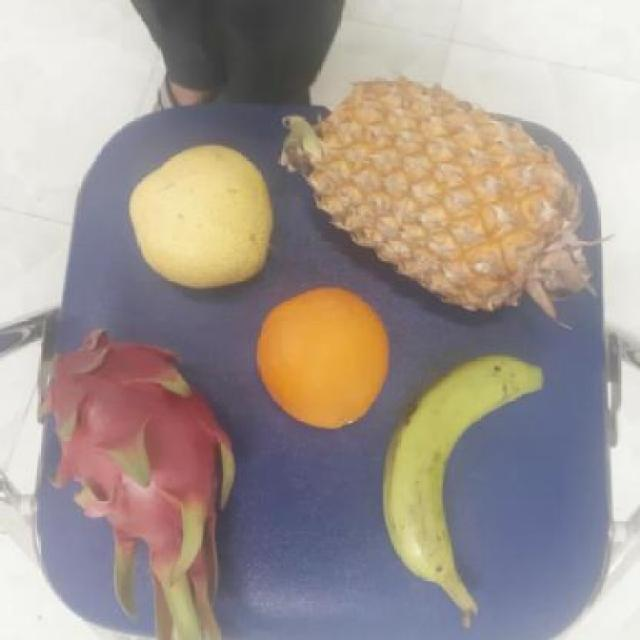banana: (383, 353, 545, 604)
dragon fruit: (40, 326, 245, 619)
oren: (253, 288, 396, 430)
pear: (127, 140, 281, 289)
pineapple: (308, 73, 608, 312)
